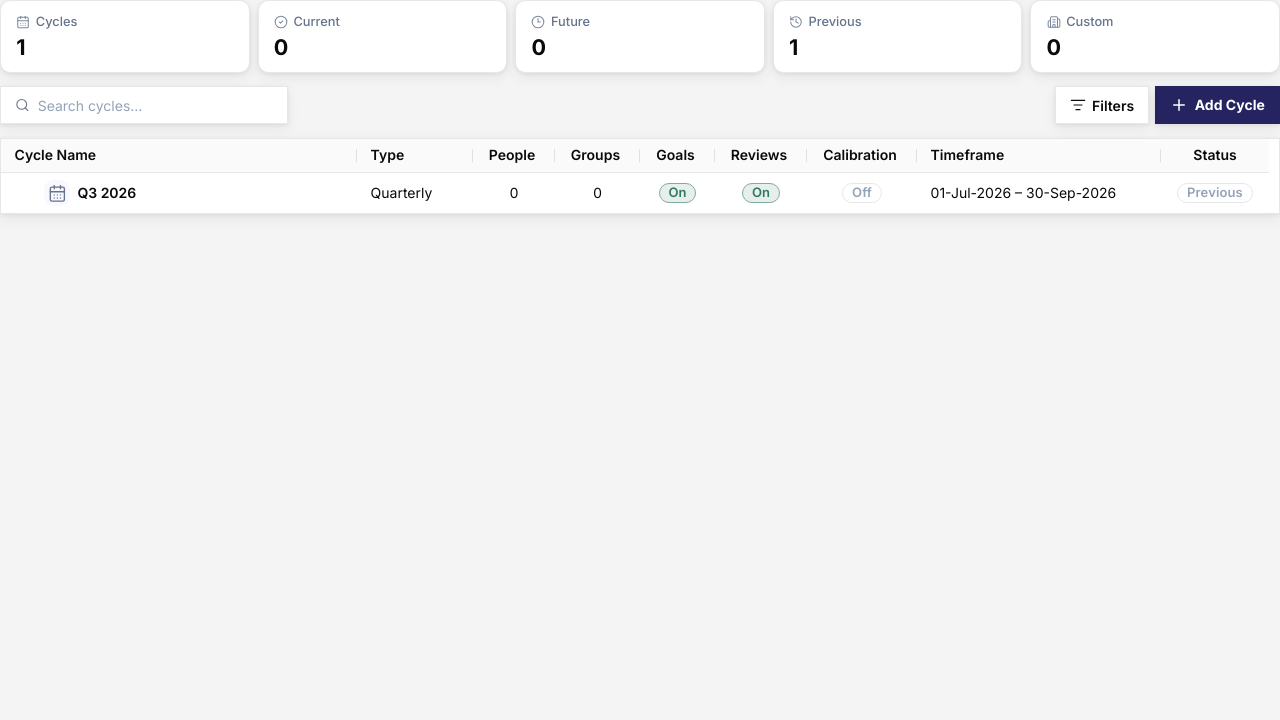
Scenario: CyclesList › filters cycles from the Filters menu
The image size is (1280, 720).
Click the button "Filters" at point(1102, 105), box [1055,86,1149,124]
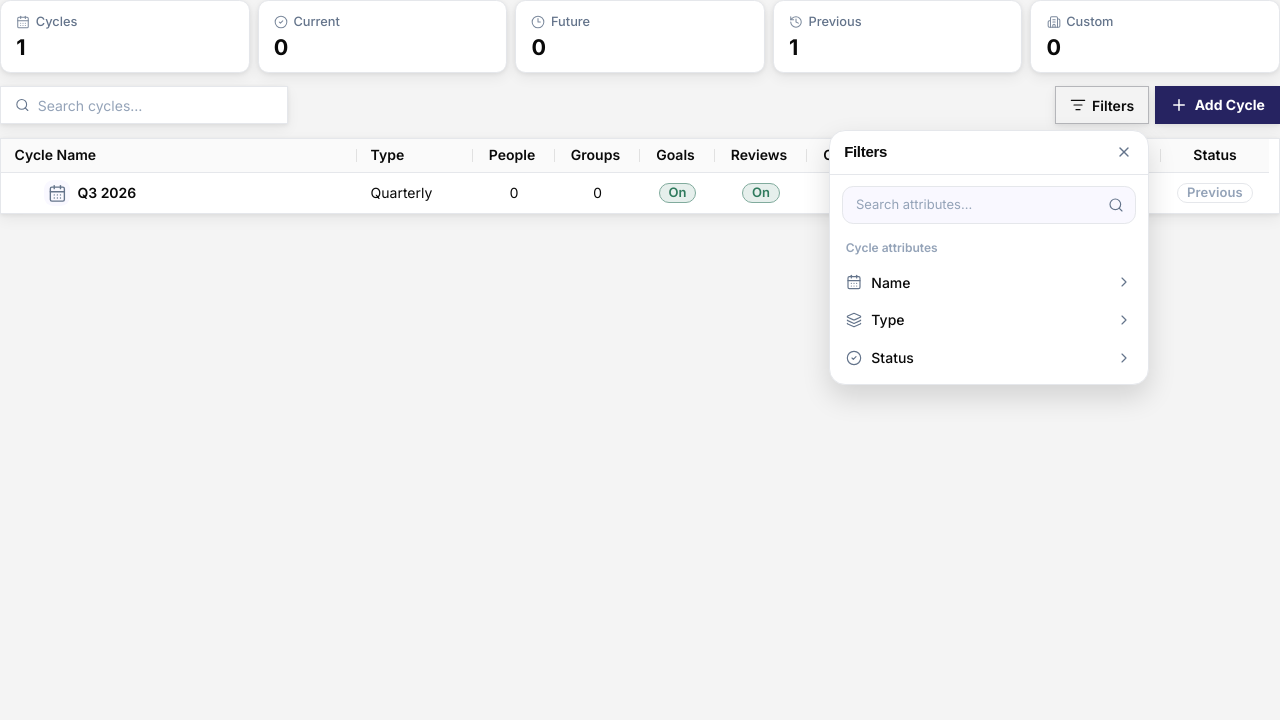
Click the button "Type" at point(888, 320), box [837,302,1140,338]
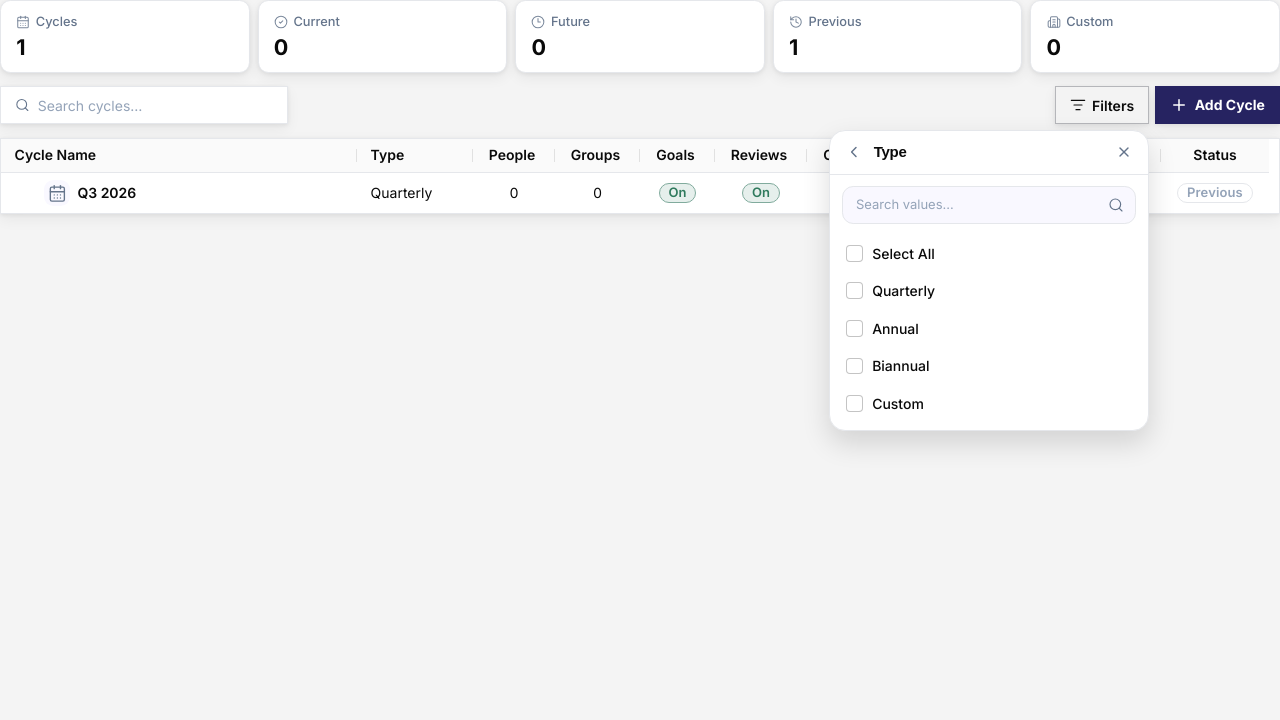
Click the option "Custom" at point(898, 404), box [837,386,1140,422]
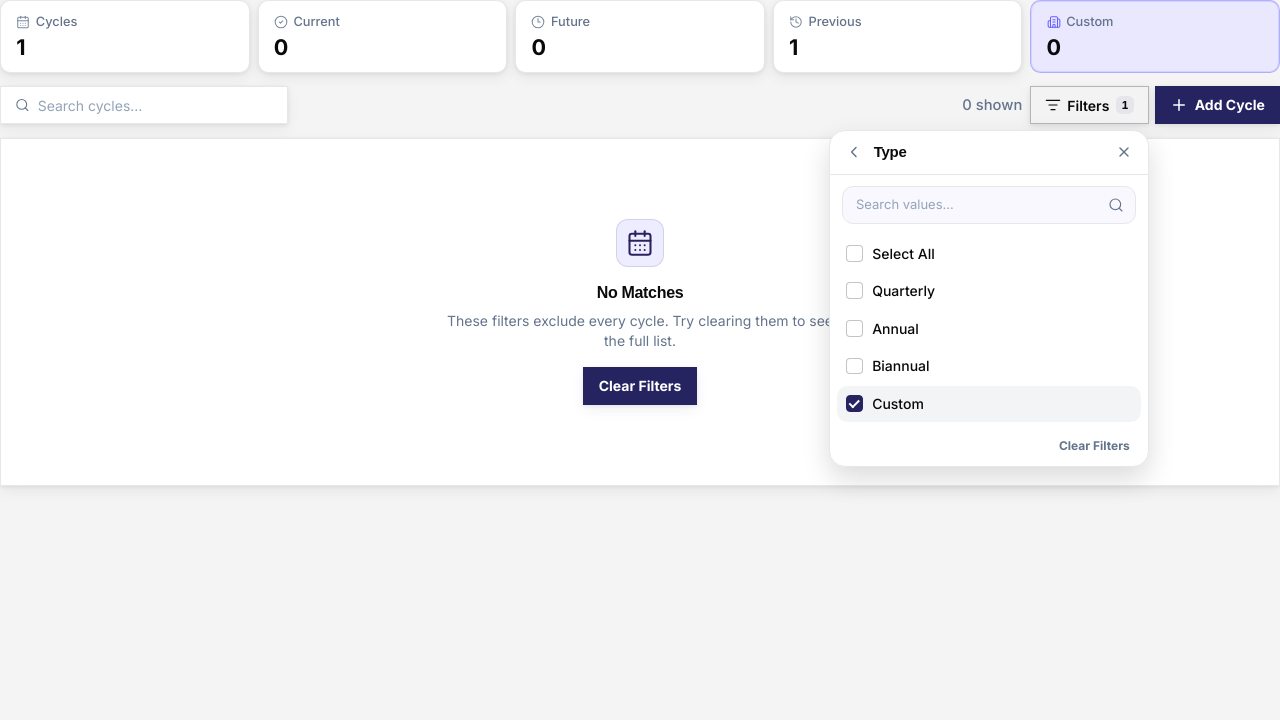
Check: the text "0 shown" is shown, box [962,94,1022,116]
